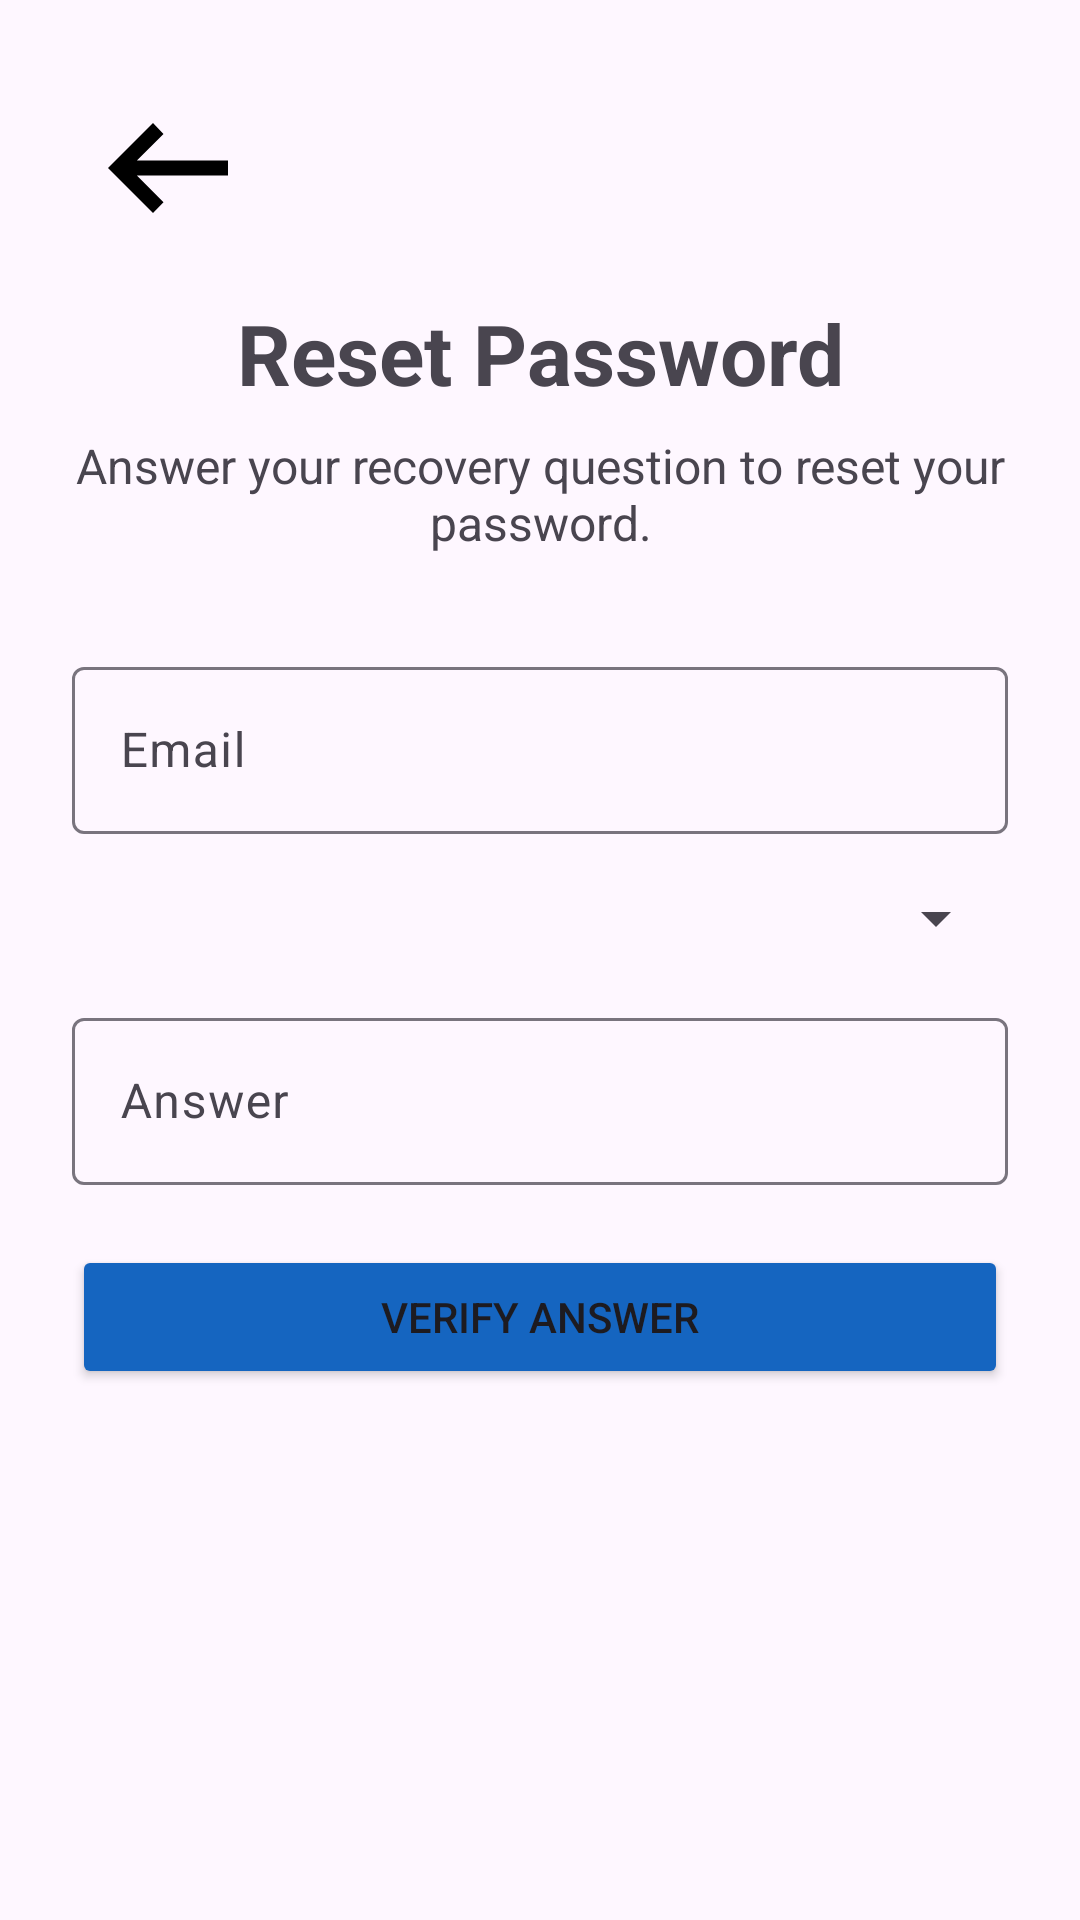

Icons on this 1080x1920 Android screen, each with its box as (x1=x1, y1=y1, x2=x2, y2=y2):
Back: (x1=108, y1=123, x2=228, y2=213)
